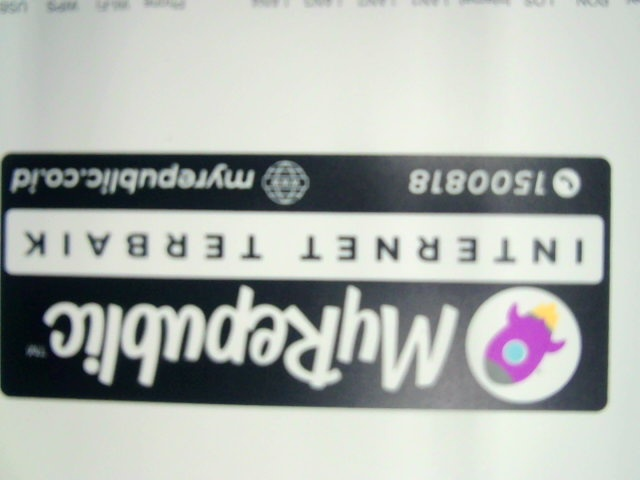BD_MyRepublic: (2, 148, 614, 411)
